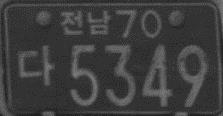0: (140, 8, 161, 39)
3: (102, 42, 136, 108)
4: (140, 44, 174, 107)
5: (69, 42, 99, 108)
7: (113, 7, 135, 39)
9: (175, 42, 209, 108)
다: (16, 44, 57, 87)
전남_O: (60, 8, 113, 36)
